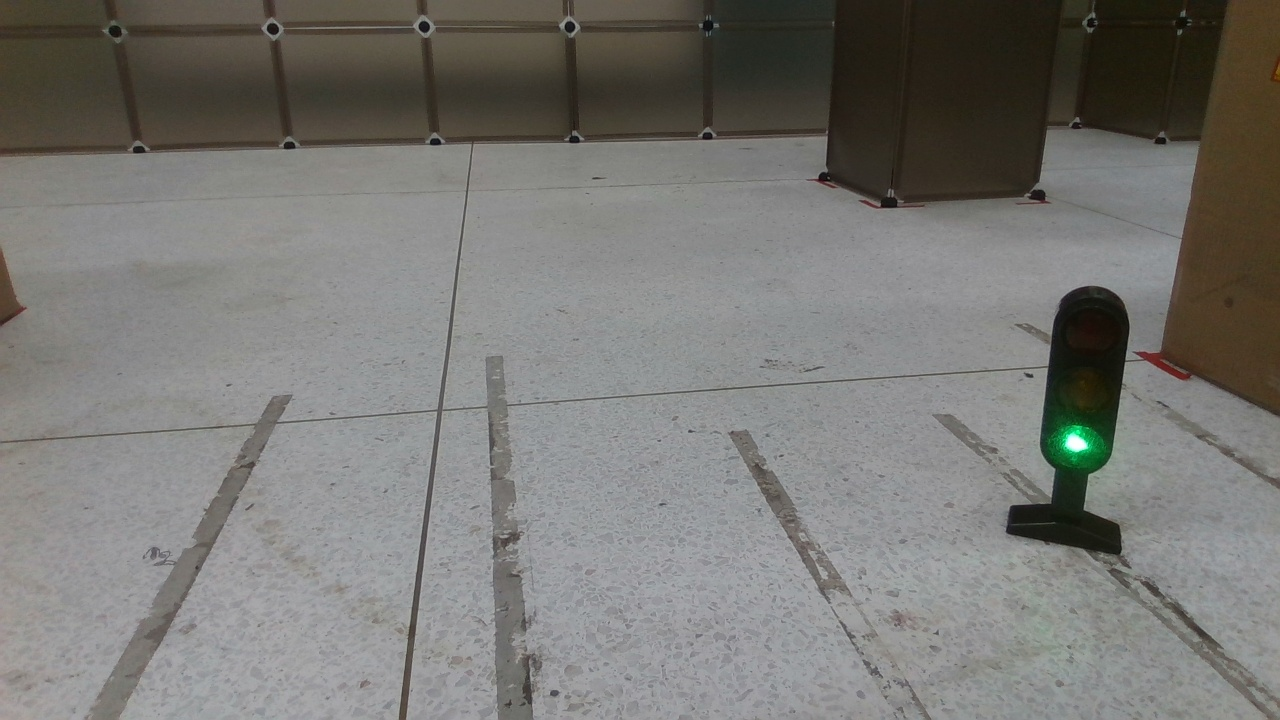Green traffic light: (1007, 286, 1130, 557)
